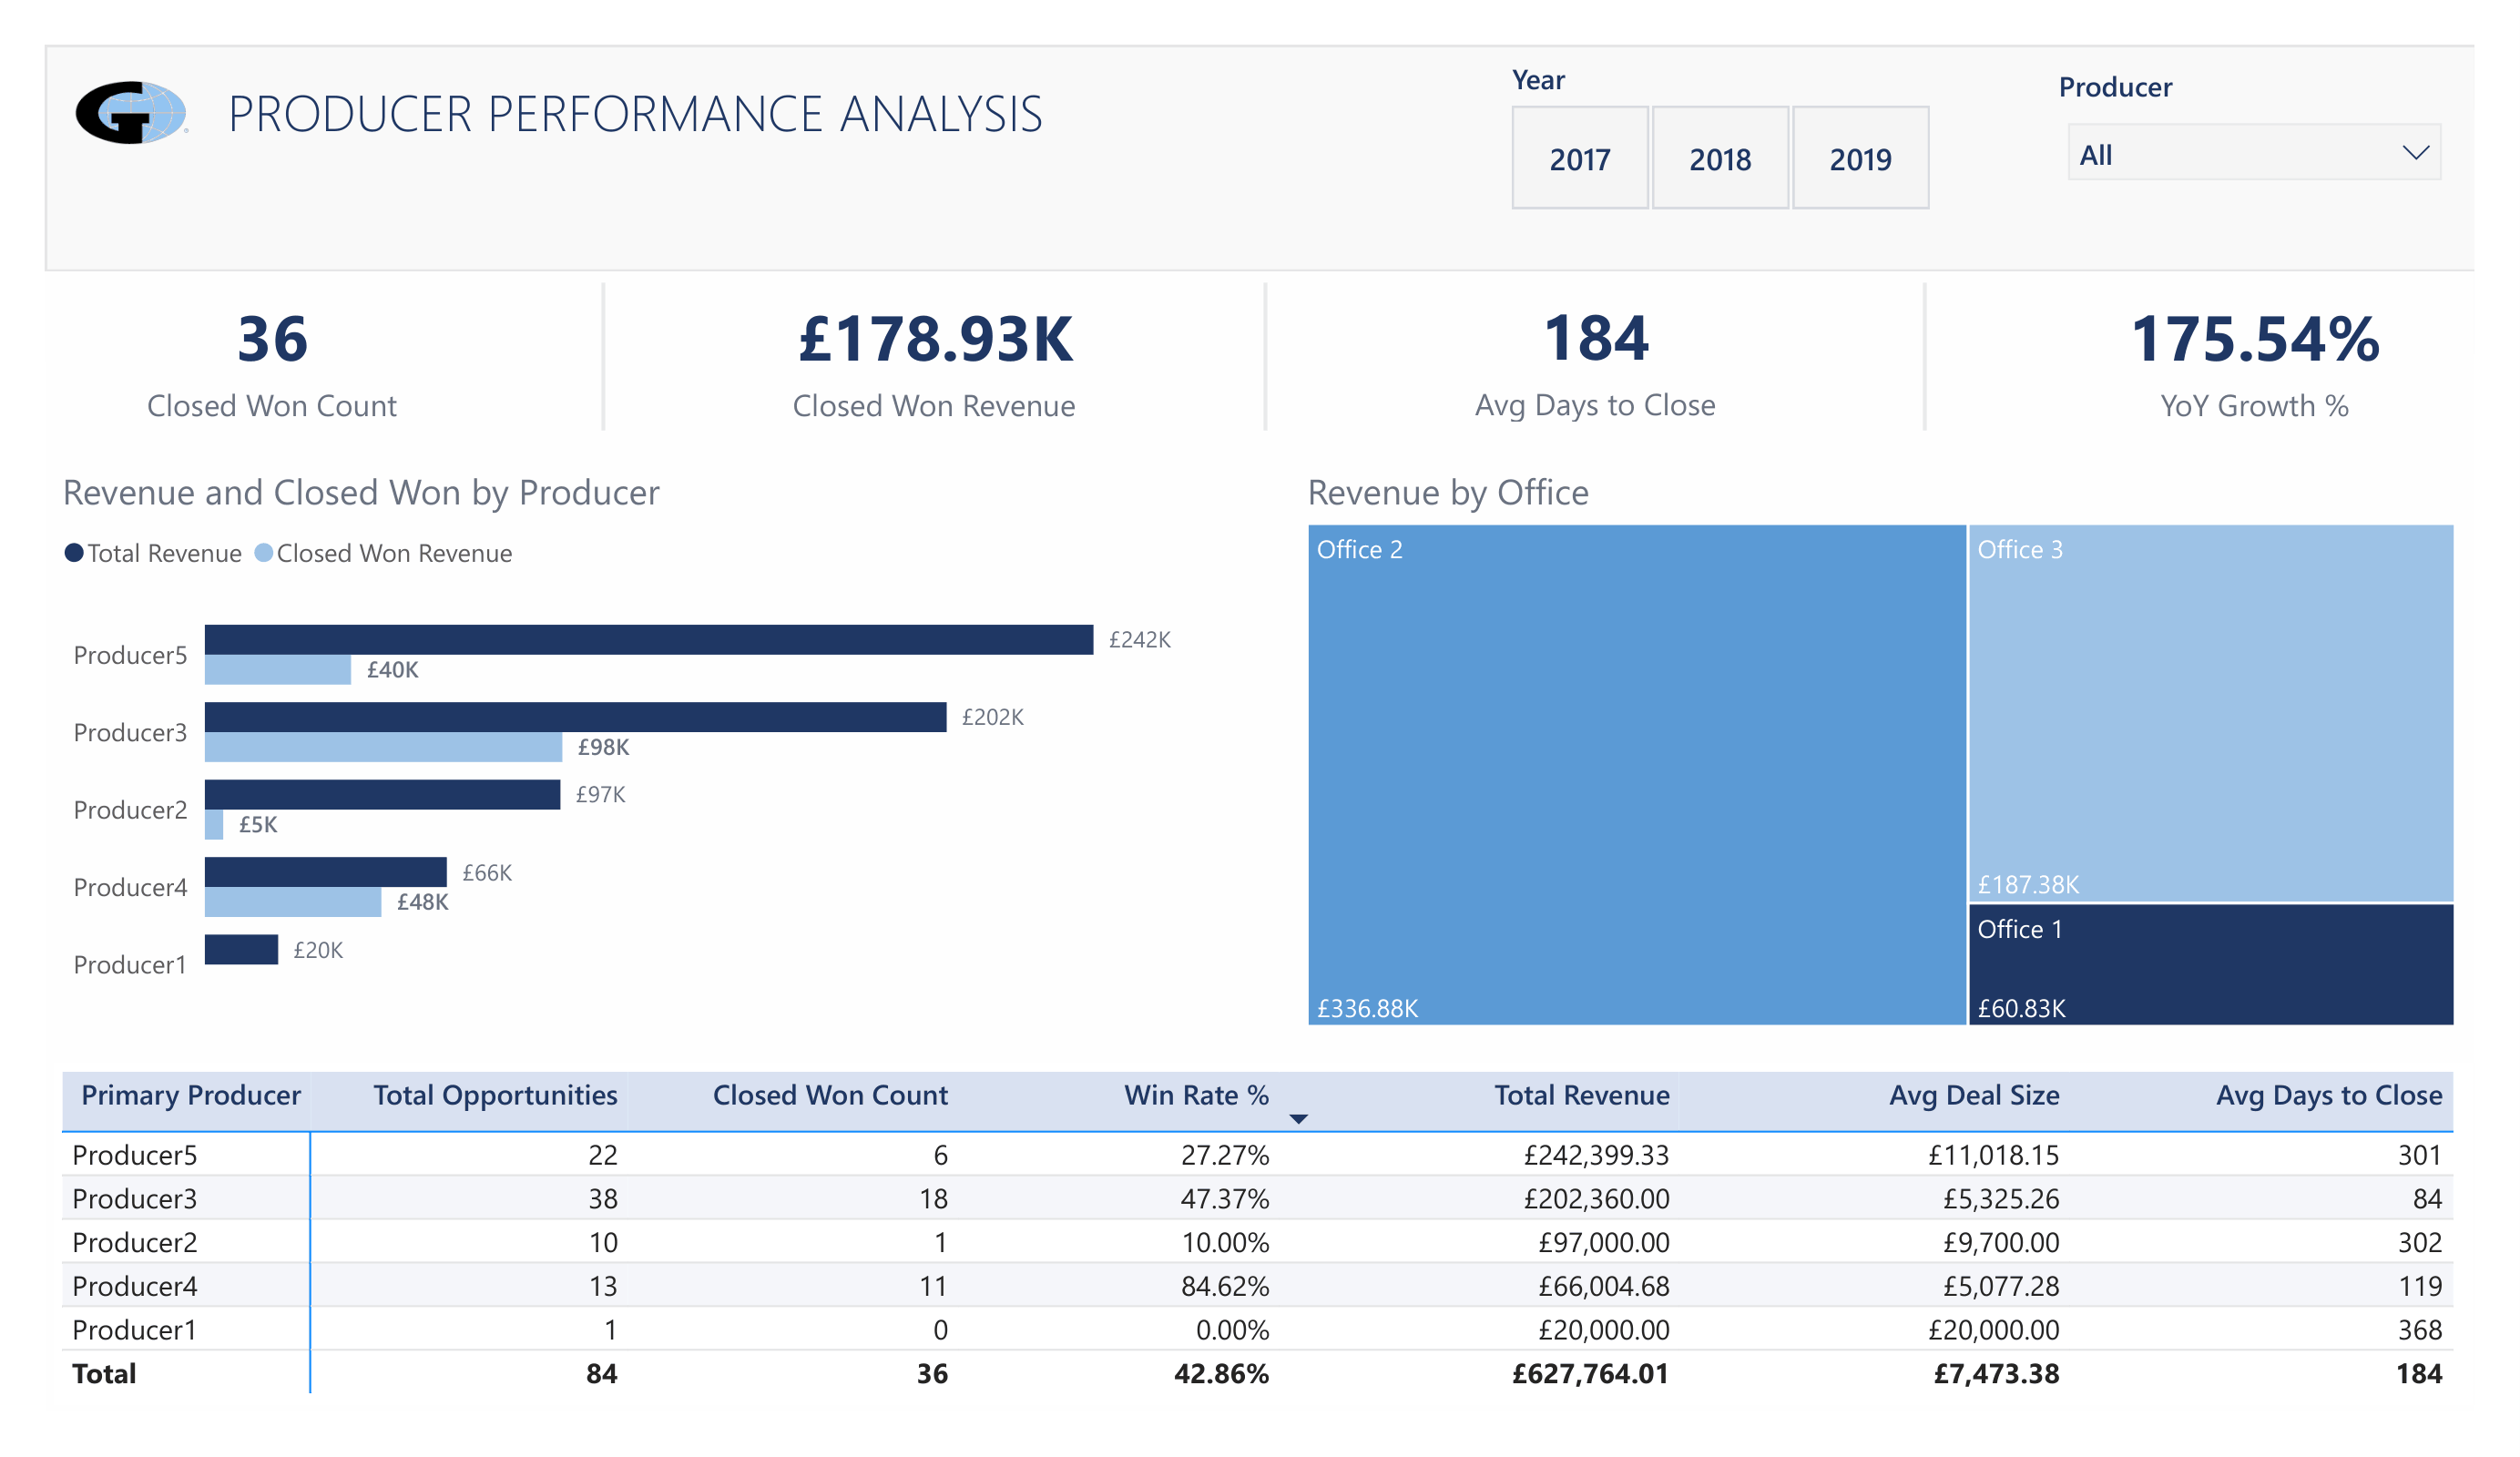

The page's visual inventory and layout, read from the dashboard file:
{"tool":"powerbi","page":{"name":"Producer Performance","canvas":[1280,720],"ordinal":1},"visuals":[{"type":"shape","box":[0,0,1434.3,119],"z":0},{"type":"textbox","box":[90.7,11.3,455,51],"z":1000},{"type":"image","box":[4.3,0,82.2,70.9],"z":2000},{"type":"card","fields":{"Values":["_Measures.Closed Won Count"]},"box":[4.3,124.6,231,78],"z":3000},{"type":"advancedSlicerVisual","fields":{"Values":["Calendar.Year"]},"box":[768.2,7.1,231,83.6],"z":4000},{"type":"card","fields":{"Values":["_Measures.Closed Won Revenue"]},"box":[352.9,124.6,231,78],"z":5000},{"type":"treemap","title":"Revenue by Office","fields":{"Group":["Dim_Producers.Office"],"Values":["_Measures.Total Revenue (Valid Dates)"]},"box":[660.4,221.8,615.1,300.5],"z":6000},{"type":"card","fields":{"Values":["_Measures.Avg Days to Close"]},"box":[701.4,124.1,231.4,78.6],"z":7000},{"type":"card","fields":{"Values":["_Measures.YoY Growth %"]},"box":[1048.8,124.6,231,78],"z":8000},{"type":"shape","box":[284.9,124.6,18.4,78],"z":9000},{"type":"shape","box":[982.2,124.6,17,78],"z":10000},{"type":"shape","box":[633.6,124.6,18.4,78],"z":11000},{"type":"slicer","title":"Producer","fields":{"Values":["Dim_Producers.Primary_Producer"]},"box":[1055.9,11.3,216.9,79.4],"z":12000},{"type":"clusteredBarChart","title":"Revenue and Closed Won by Producer","fields":{"Y":["_Measures.Total Revenue (Valid Dates)","_Measures.Closed Won Revenue"],"Category":["Dim_Producers.Primary_Producer"]},"box":[4.2,221.6,614.7,301.6],"z":13000},{"type":"pivotTable","fields":{"Rows":["Dim_Producers.Primary_Producer"],"Values":["_Measures.Total Opportunities","_Measures.Closed Won Count","_Measures.Win Rate %","_Measures.Total Revenue (Valid Dates)","_Measures.Avg Deal Size","_Measures.Avg Days to Close"]},"box":[4.3,535.7,1275.6,181.4],"z":14000}]}

Visuals, with their boxes on the page's 1280x720 design canvas (x1, y1, x2, y2). These are canvas units, not pixel positions in the 2520x1457 screenshot, which may show the page scaled, cropped or inside an application window:
shape: crop(0, 0, 1434, 119)
textbox: crop(91, 11, 546, 62)
image: crop(4, 0, 86, 71)
card - _Measures.Closed Won Count: crop(4, 125, 235, 203)
advancedSlicerVisual - Calendar.Year: crop(768, 7, 999, 91)
card - _Measures.Closed Won Revenue: crop(353, 125, 584, 203)
"Revenue by Office" treemap: crop(660, 222, 1276, 522)
card - _Measures.Avg Days to Close: crop(701, 124, 933, 203)
card - _Measures.YoY Growth %: crop(1049, 125, 1280, 203)
shape: crop(285, 125, 303, 203)
shape: crop(982, 125, 999, 203)
shape: crop(634, 125, 652, 203)
"Producer" slicer: crop(1056, 11, 1273, 91)
"Revenue and Closed Won by Producer" clusteredBarChart: crop(4, 222, 619, 523)
pivotTable - Dim_Producers.Primary_Producer x _Measures.Total Opportunities: crop(4, 536, 1280, 717)
